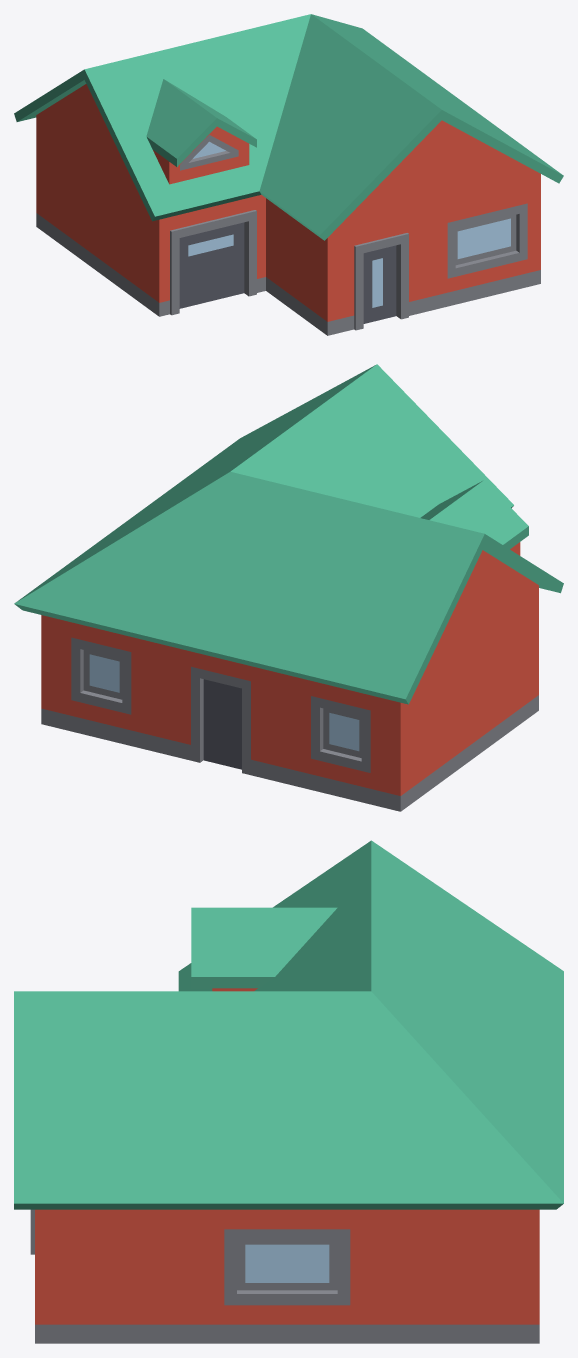
Rendered from house_type05.001.obj.
3 renders of one model, top to bottom at view 1: azimuth 30°, elevation 25°; view 2: azimuth 150°, elevation 25°; view 3: azimuth 270°, elevation 25°, orthographic. The views are drawn at different scales.
Visible parts, largest first — view 1: house_type05.001; view 2: house_type05.001; view 3: house_type05.001.
Boxes of the visible parts, x1,y1,x2,y2 form: house_type05.001: (14,14,563,335); house_type05.001: (14,364,563,811); house_type05.001: (14,840,563,1343).
Size of the model in its own units: 1.5 by 0.848 by 1.5.
